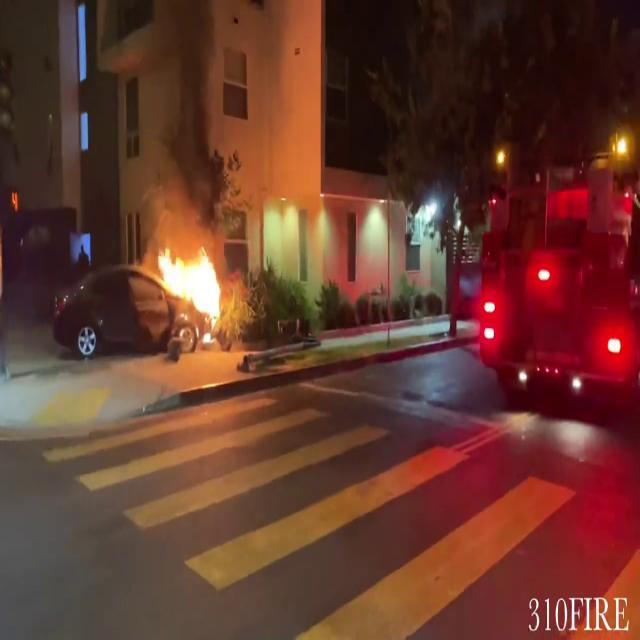Fire: (150, 236, 232, 335)
Smoke: (139, 0, 225, 224)
